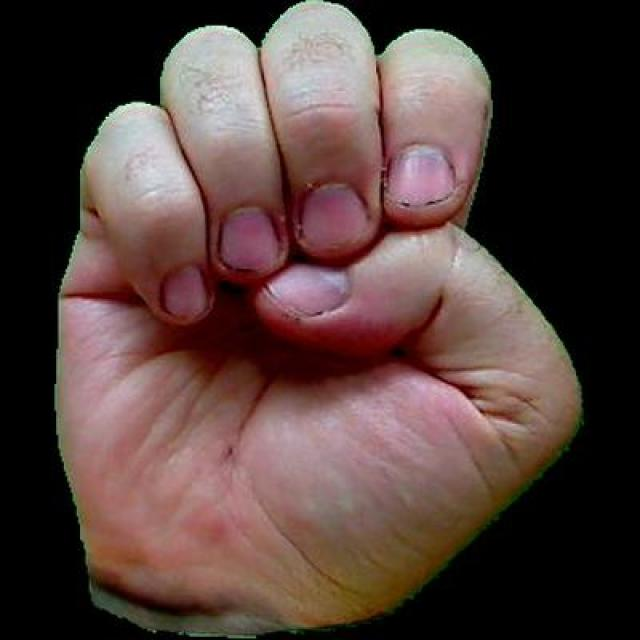e: (48, 0, 587, 637)
